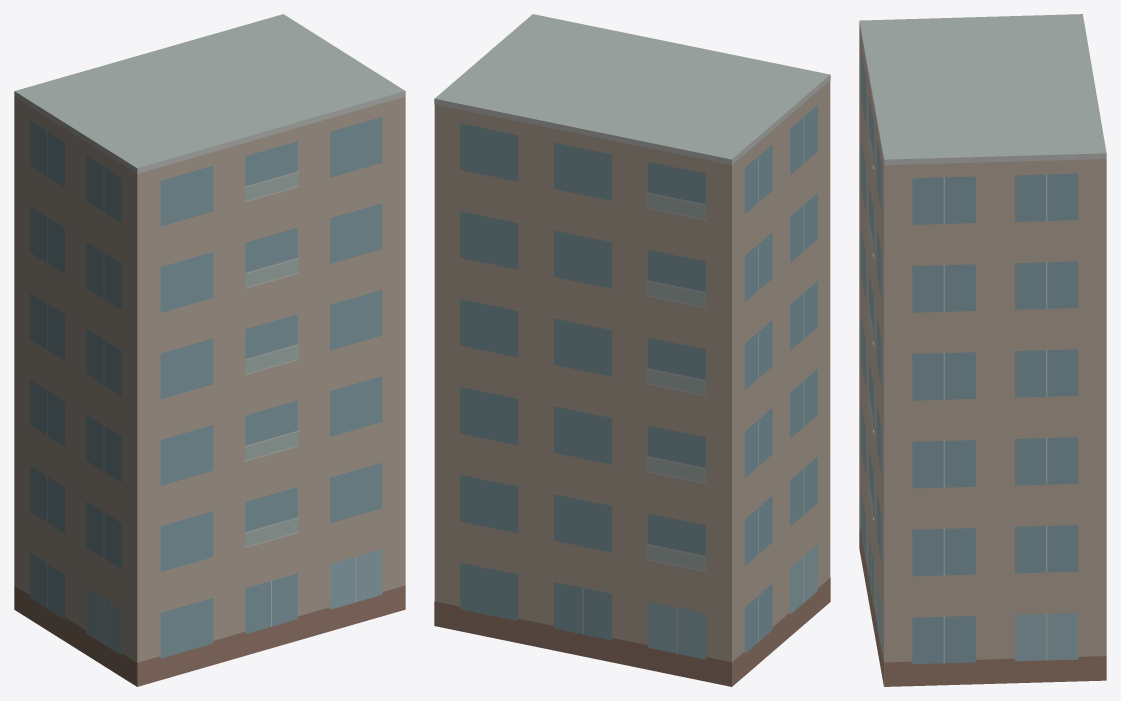
The model's file is survey-upis-32894168.glb.
3 renders of one model, left to right at view 1: azimuth 30°, elevation 25°; view 2: azimuth 150°, elevation 25°; view 3: azimuth 270°, elevation 25°, orthographic.
Visible parts, largest first — view 1: survey-upis-32894168.tmp; view 2: survey-upis-32894168.tmp; view 3: survey-upis-32894168.tmp.
Part boxes in pixels (x1,y1,x2,y2): survey-upis-32894168.tmp: (14,14,405,686); survey-upis-32894168.tmp: (434,14,830,686); survey-upis-32894168.tmp: (859,14,1106,686).
Bounding box in the file's own units: 13.58 × 22.9 × 9.75.
